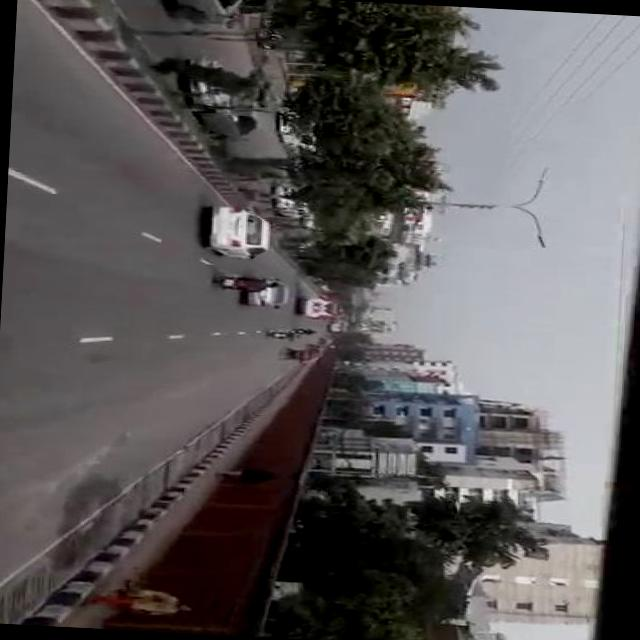bus: (304, 297, 346, 323)
car: (184, 58, 268, 146), (208, 208, 276, 264), (170, 0, 248, 29), (246, 278, 290, 312), (272, 188, 314, 222), (278, 112, 310, 150)
motorcycle: (216, 277, 265, 294), (268, 332, 290, 342)
